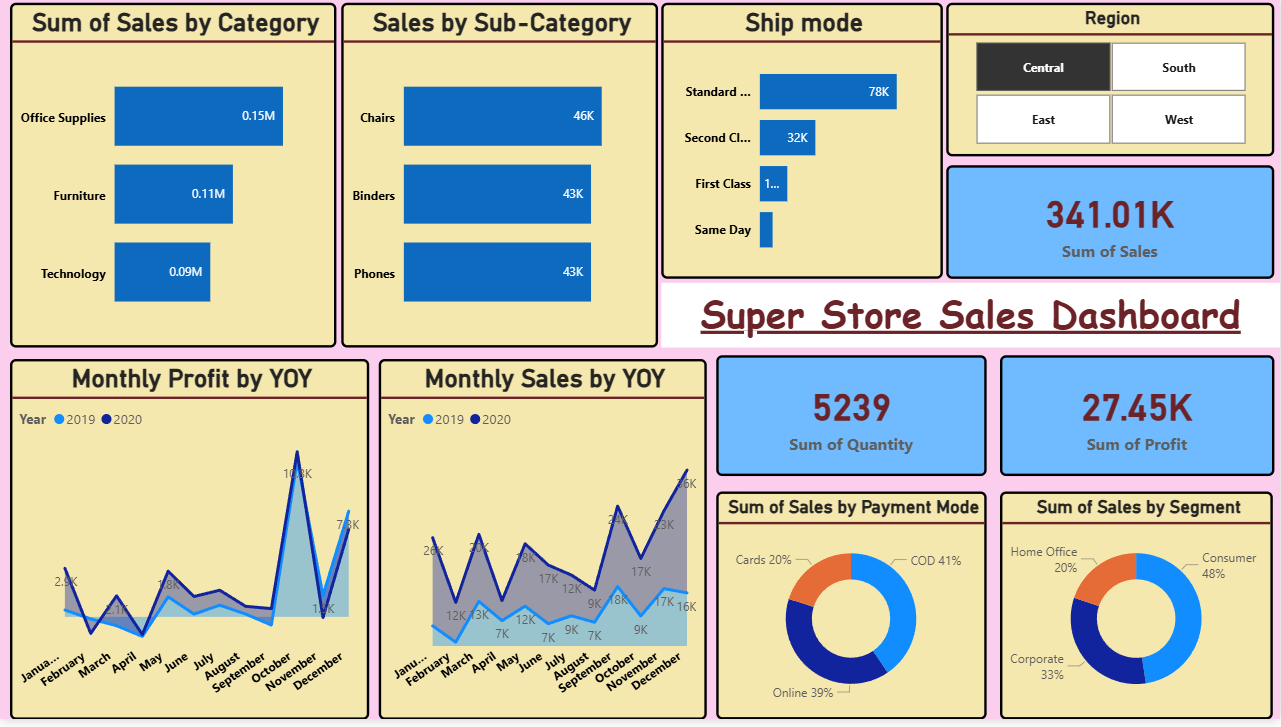

What the dashboard file says about the page in this screenshot:
{"tool":"powerbi","page":{"name":"Page 1","canvas":[1280,720],"ordinal":0},"visuals":[{"type":"barChart","fields":{"Category":["Sheet1.Category"],"Y":["Sum(Sheet1.Sales)"]},"box":[9.6,4.1,326.6,344.4],"z":0},{"type":"barChart","title":"Sales by Sub-Category","fields":{"Category":["Sheet1.Sub-Category"],"Y":["Sum(Sheet1.Sales)"]},"box":[341.7,4.1,317,344.4],"z":1000},{"type":"barChart","title":"Ship mode","fields":{"Category":["Sheet1.Ship Mode"],"Y":["Sum(Sheet1.Sales)"]},"box":[661.4,4.1,281.3,275.8],"z":2000},{"type":"stackedAreaChart","title":"Monthly Sales by YOY","fields":{"Category":["Sheet1.Order Date.Variation.Date Hierarchy.Month","Sheet1.Order Date.Variation.Date Hierarchy.Day"],"Y":["Sum(Sheet1.Sales)"],"Series":["Sheet1.Order Date.Variation.Date Hierarchy.Year"]},"box":[378.7,359.5,328,360.9],"z":3000},{"type":"stackedAreaChart","title":"Monthly Profit by YOY","fields":{"Category":["Sheet1.Order Date.Variation.Date Hierarchy.Month","Sheet1.Order Date.Variation.Date Hierarchy.Day"],"Series":["Sheet1.Order Date.Variation.Date Hierarchy.Year"],"Y":["Sum(Sheet1.Profit)"]},"box":[9.6,359.5,359.5,360.9],"z":4000},{"type":"donutChart","fields":{"Category":["Sheet1.Segment"],"Y":["Sum(Sheet1.Sales)"]},"box":[1000.3,492.2,273.1,227.8],"z":6000},{"type":"donutChart","fields":{"Category":["Sheet1.Payment Mode","Sheet1.Segment"],"Y":["Sum(Sheet1.Sales)"]},"box":[716.3,492.6,270.3,227.8],"z":7000},{"type":"slicer","title":"Region","fields":{"Values":["Sheet1.Region"]},"box":[946.8,4.1,328,153.7],"z":8000},{"type":"textbox","box":[661.4,284,618.9,64.5],"z":9000},{"type":"card","fields":{"Values":["Sum(Sheet1.Sales)"]},"box":[946.8,166,328,113.9],"z":10000},{"type":"card","fields":{"Values":["Sum(Sheet1.Quantity)"]},"box":[716.3,356.8,270.3,120.8],"z":11000},{"type":"card","fields":{"Values":["Sum(Sheet1.Profit)"]},"box":[1000.3,356.8,274.4,120.8],"z":12000}]}

Visuals, with their boxes in screenshot pixels (x1, y1, x2, y2), scaled from the page's 1280x720 canvas onto the 1281x727 screenshot:
barChart - Sheet1.Category x Sum(Sheet1.Sales): (left=10, top=4, right=336, bottom=352)
"Sales by Sub-Category" barChart: (left=342, top=4, right=659, bottom=352)
"Ship mode" barChart: (left=662, top=4, right=943, bottom=283)
"Monthly Sales by YOY" stackedAreaChart: (left=379, top=363, right=707, bottom=726)
"Monthly Profit by YOY" stackedAreaChart: (left=10, top=363, right=369, bottom=726)
donutChart - Sheet1.Segment x Sum(Sheet1.Sales): (left=1001, top=497, right=1274, bottom=726)
donutChart - Sheet1.Payment Mode x Sheet1.Segment: (left=717, top=497, right=987, bottom=726)
"Region" slicer: (left=948, top=4, right=1276, bottom=159)
textbox: (left=662, top=287, right=1280, bottom=352)
card - Sum(Sheet1.Sales): (left=948, top=168, right=1276, bottom=283)
card - Sum(Sheet1.Quantity): (left=717, top=360, right=987, bottom=482)
card - Sum(Sheet1.Profit): (left=1001, top=360, right=1276, bottom=482)
